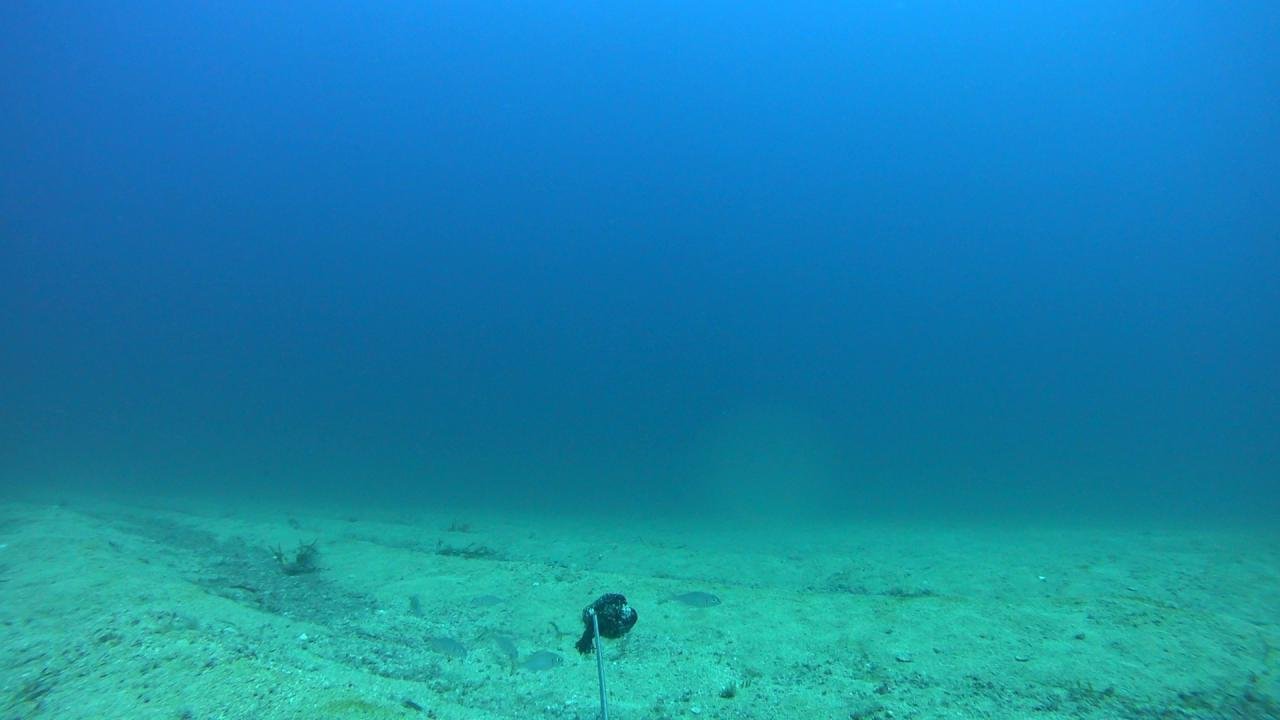pagellus: (508, 648, 565, 676), (419, 638, 473, 662), (664, 588, 721, 607), (467, 596, 511, 608)
